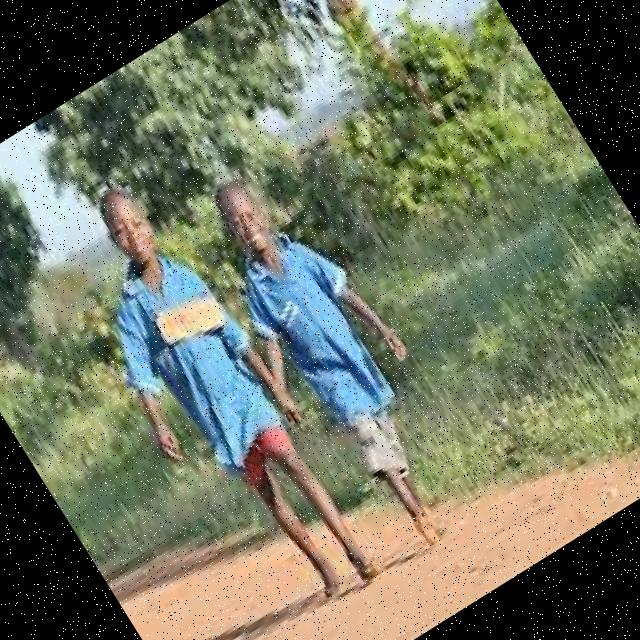Person: (30, 168, 392, 636), (177, 148, 500, 564)
